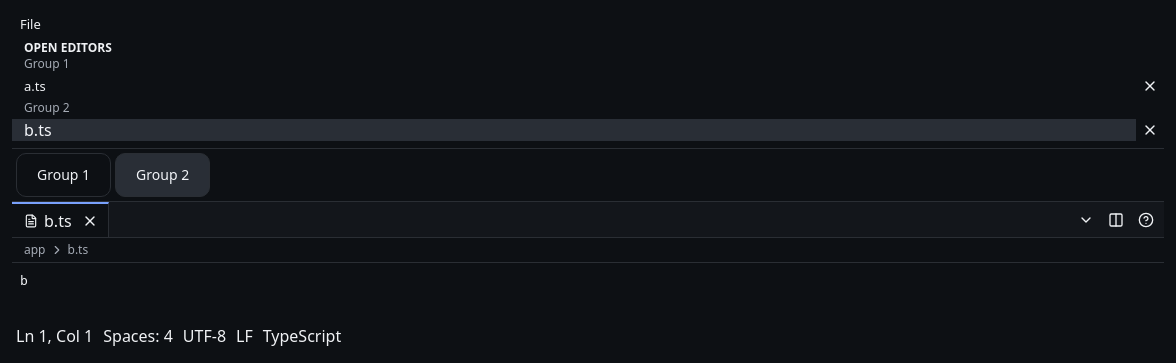
Test: groups side by side — plan 07, B-33 › shows one group at a time below md, with a selector (S-224)
The width and height of the screenshot is (1176, 363).
Click the button "Group 1".
click(64, 175)  # box x1=16 y1=153 x2=111 y2=197
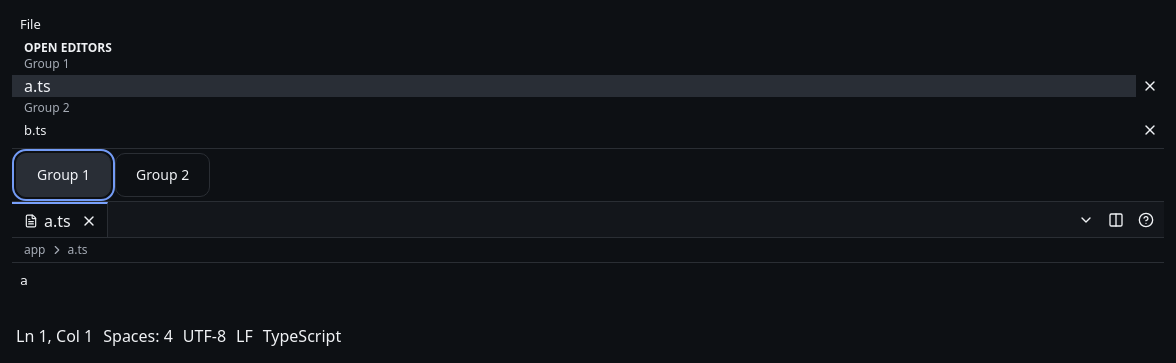
Now the text box named "Editor of a.ts" is shown, box x1=12 y1=263 x2=1164 y2=324
